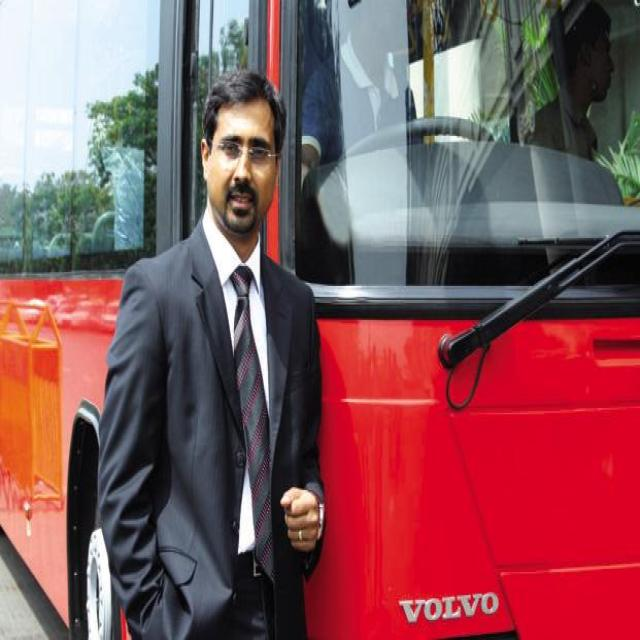bus: (0, 0, 640, 638)
